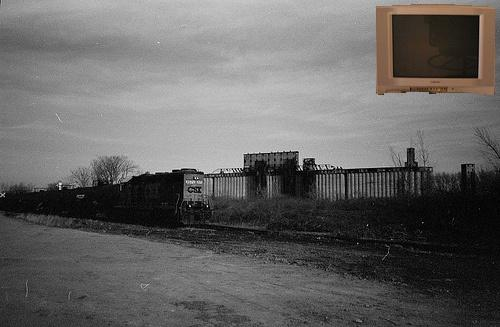tampered: (377, 5, 495, 95)
